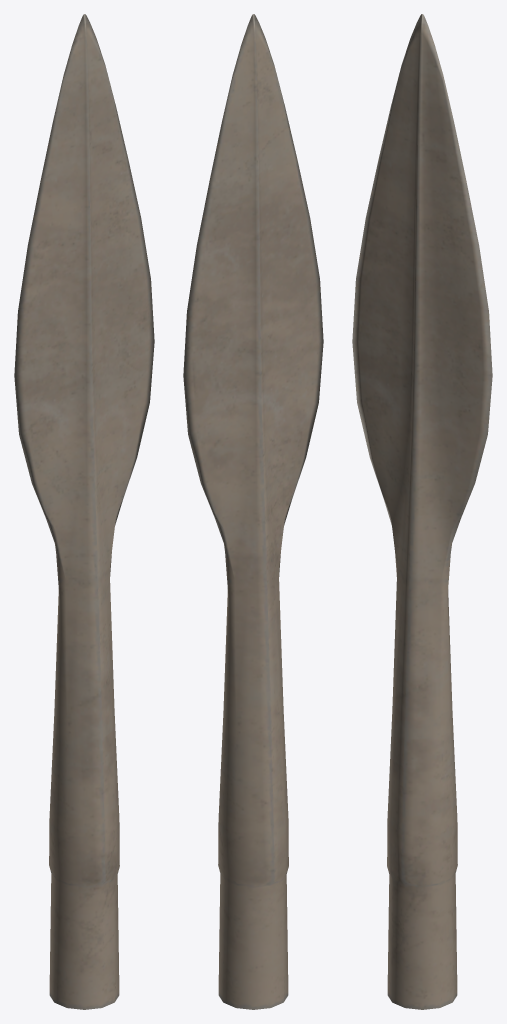
The model's file is wm_pelagir_spear_blade.fbx.
3 views of the same model, side by side, from view 1: azimuth 30°, elevation 25°; view 2: azimuth 210°, elevation 25°; view 3: azimuth 330°, elevation 25° (orthographic).
Parts seen in each view (by area): view 1: wm_pelagir_spear_blade; view 2: wm_pelagir_spear_blade; view 3: wm_pelagir_spear_blade.
Part boxes in pixels (x1=…): wm_pelagir_spear_blade: x1=14, y1=14, x2=154, y2=1009; wm_pelagir_spear_blade: x1=183, y1=14, x2=323, y2=1009; wm_pelagir_spear_blade: x1=352, y1=14, x2=492, y2=1009.
Bounding box in the file's own units: 0.0835 × 0.041 × 0.5582.
Materials: 1 (1 with a texture image).
